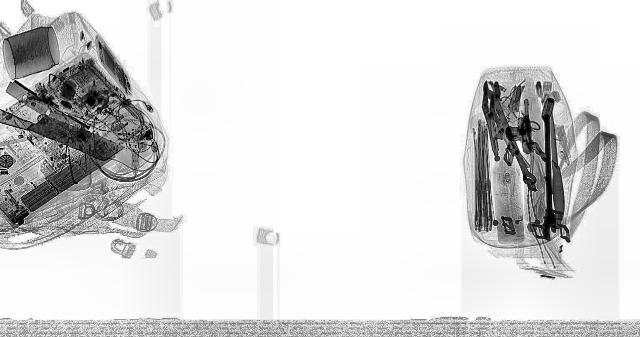Gun: (505, 99, 533, 143)
Knife: (0, 107, 130, 162)
Wrench: (479, 80, 543, 187)
